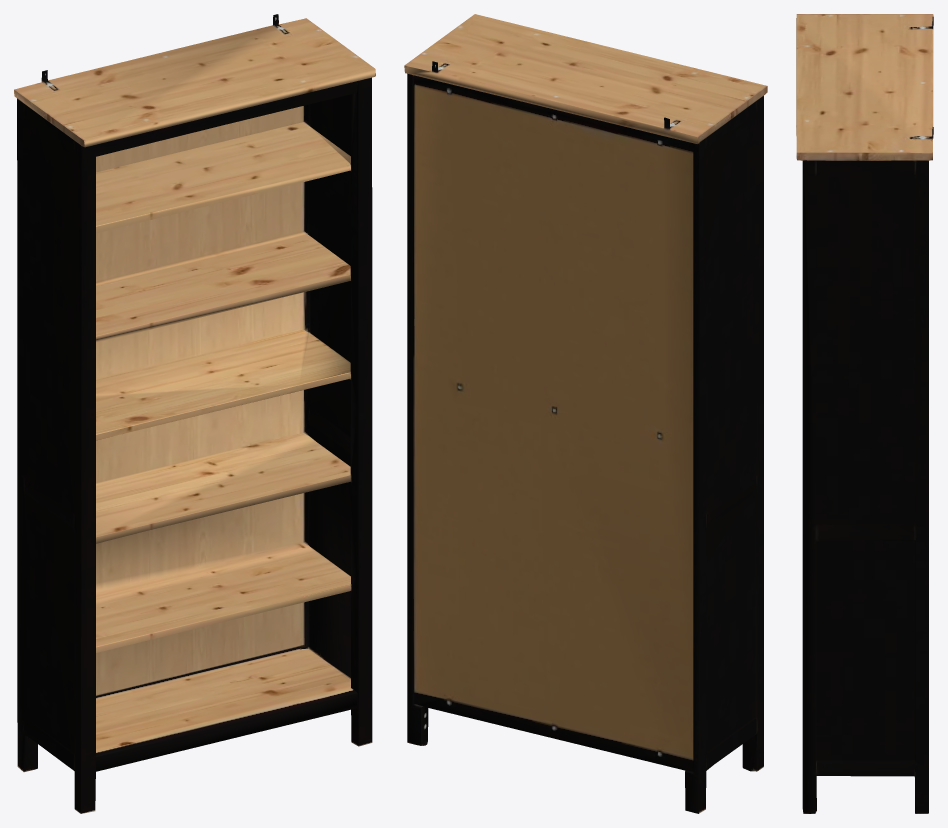
Rendered from 18 - HEMNES - 書櫃, 黑棕色淺棕色, 90x198 公分 IKEA 線上購物.glb.
The picture shows the model from 3 angles, left to right: view 1: azimuth 30°, elevation 25°; view 2: azimuth 150°, elevation 25°; view 3: azimuth 270°, elevation 25°; orthographic projection. The views are drawn at different scales.
Visible parts, largest first — view 1: ProcessedMeshNode; view 2: ProcessedMeshNode; view 3: ProcessedMeshNode.
Part boxes in pixels (box(x1,y1,x2,y2)): ProcessedMeshNode: box(14, 14, 375, 813); ProcessedMeshNode: box(404, 14, 767, 813); ProcessedMeshNode: box(796, 14, 933, 813).
Size of the model in its own units: 0.8921 by 2.01 by 0.3714.
Materials: 1 (1 with a texture image).
